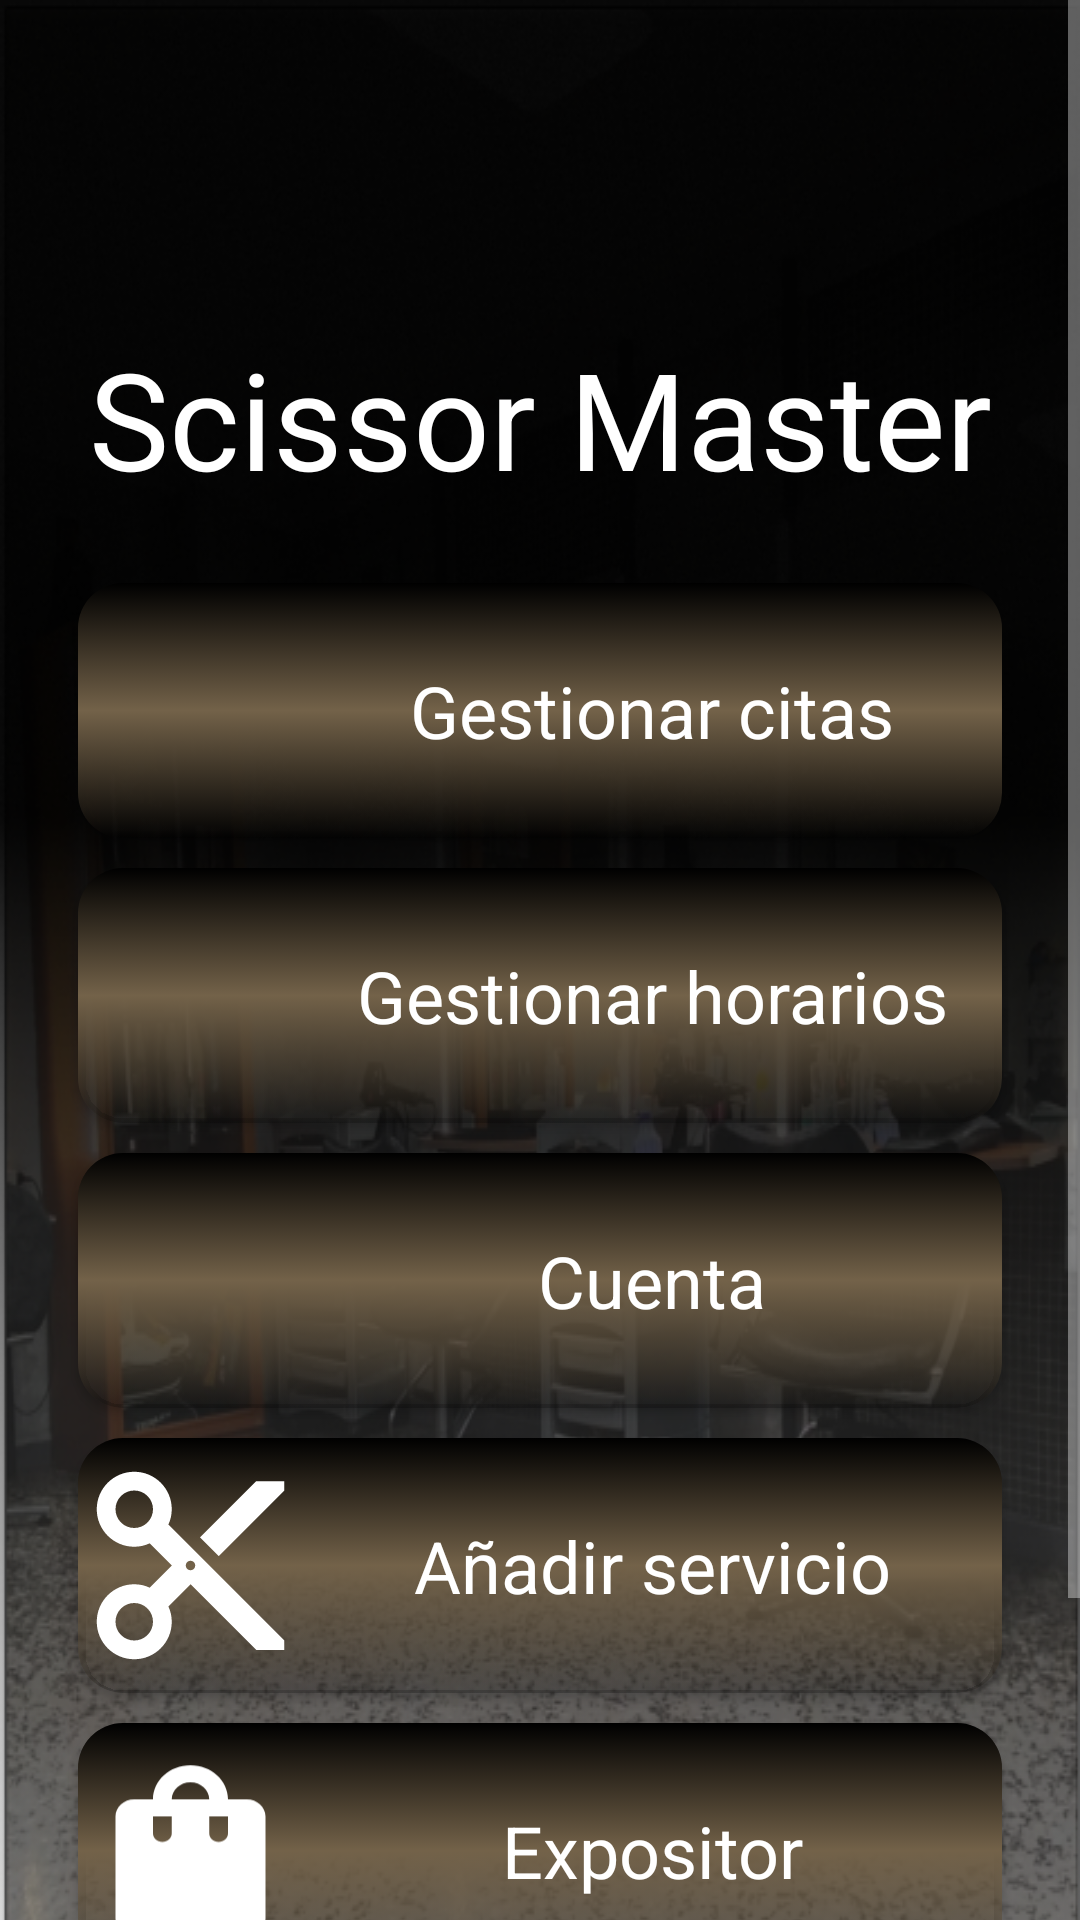

Where to tap for icons on this 1080px x 1920px app screen, as (x=x, y=y):
hairdersser: (x=190, y=1565)
